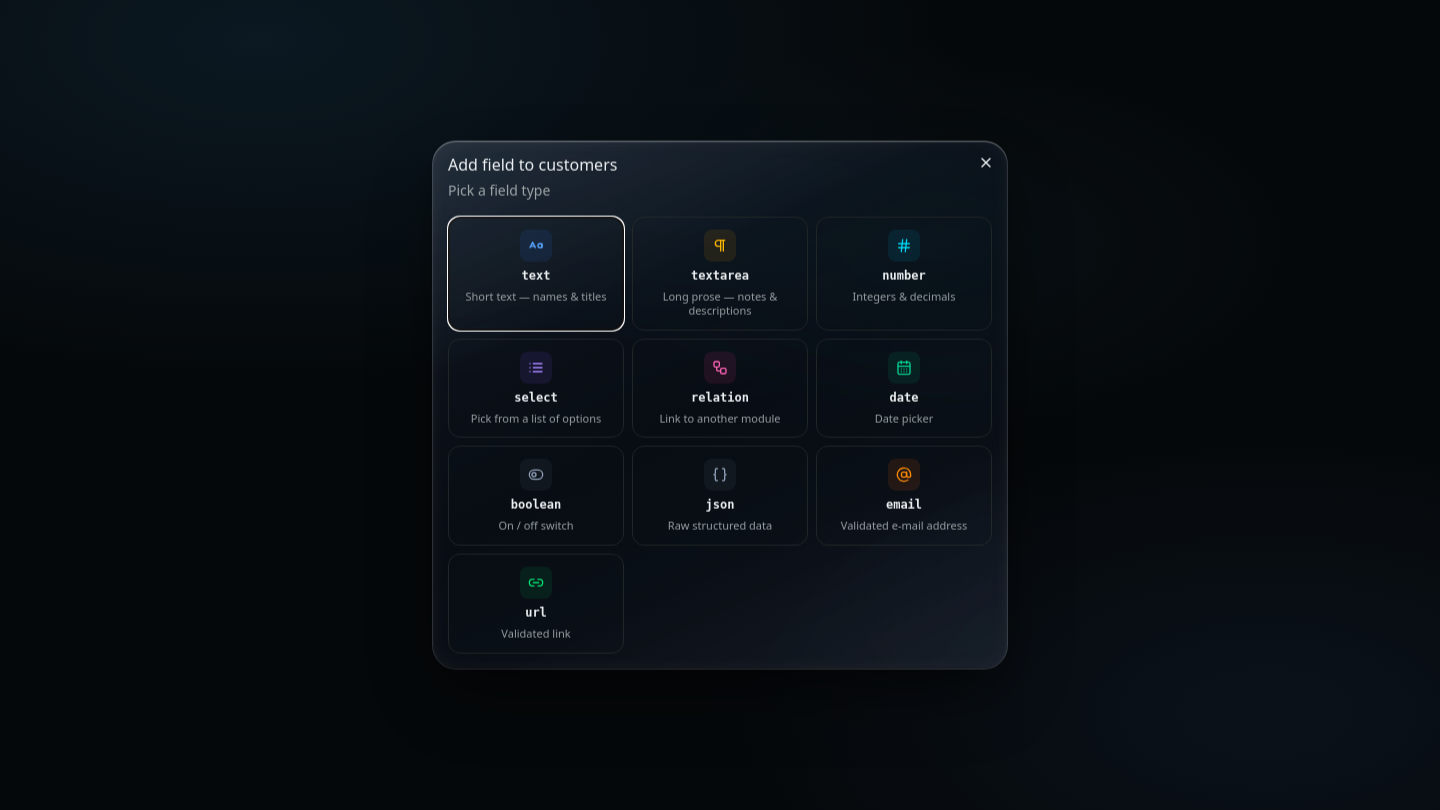
Test: FieldModal add flow › back button returns to the type grid
Click the button "text Short text — names & titles" at (536, 273), box left=448, top=217, right=624, bottom=330
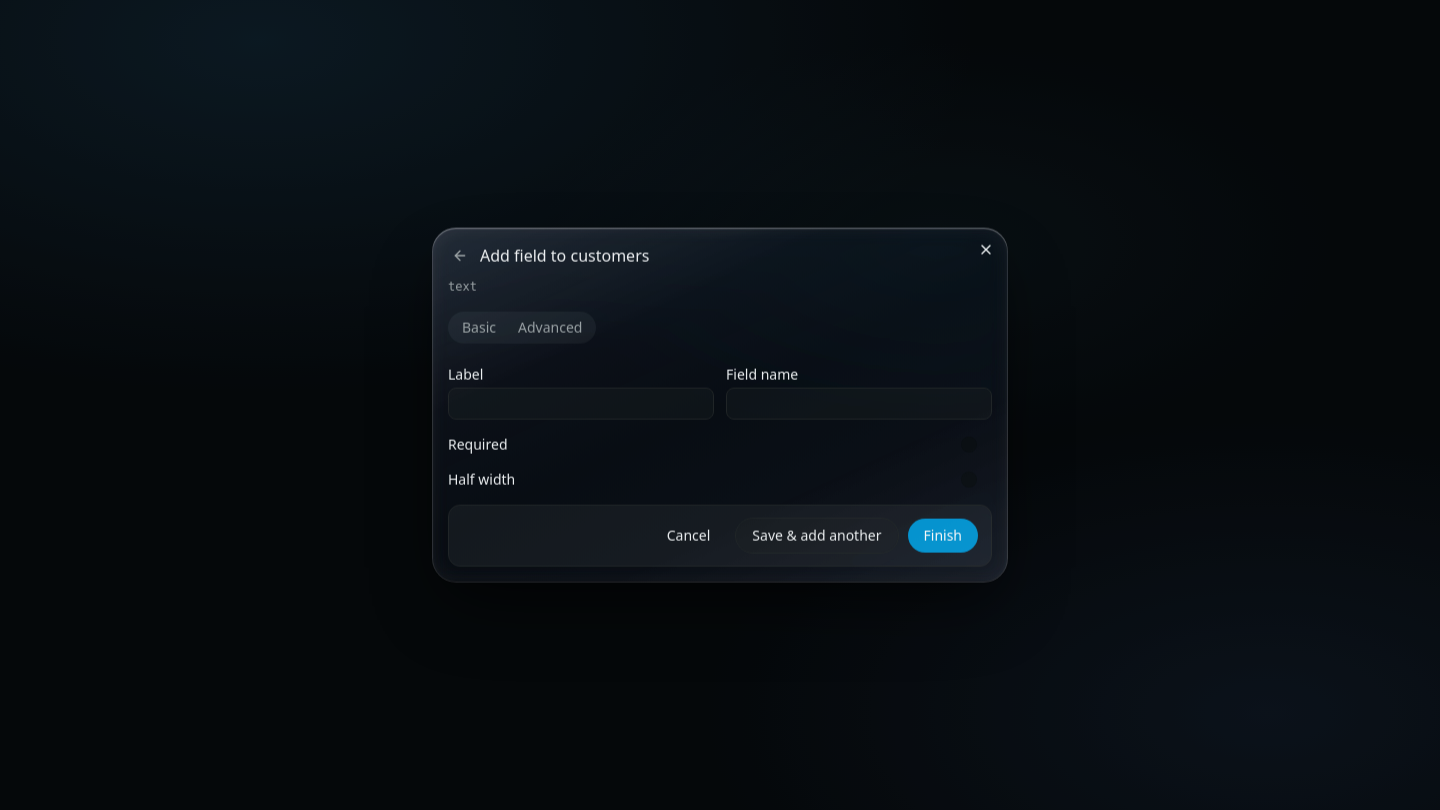
Click the button named "back" at (460, 256), box left=448, top=244, right=472, bottom=268
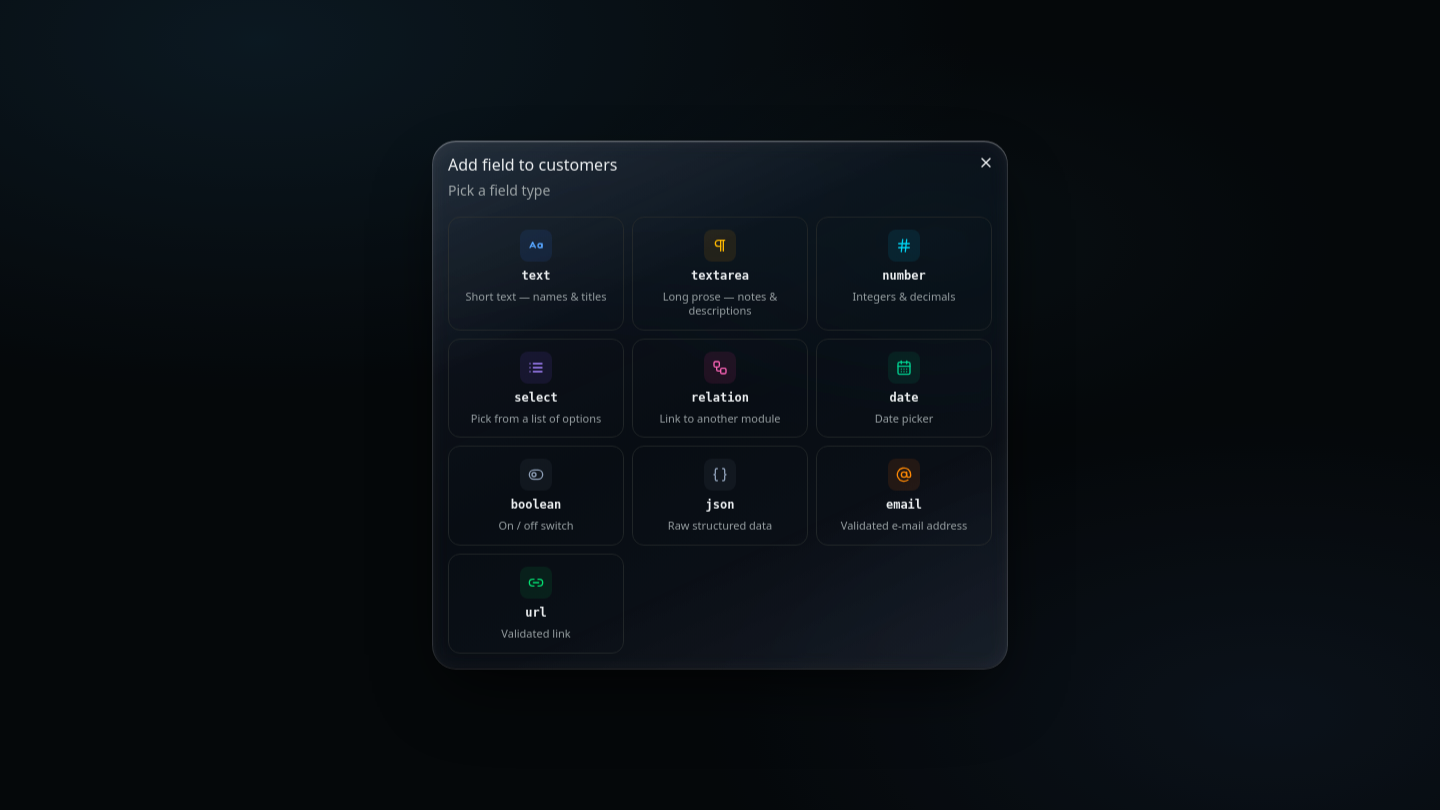
Expected: the text "Pick a field type" is shown, left=448, top=181, right=550, bottom=200
